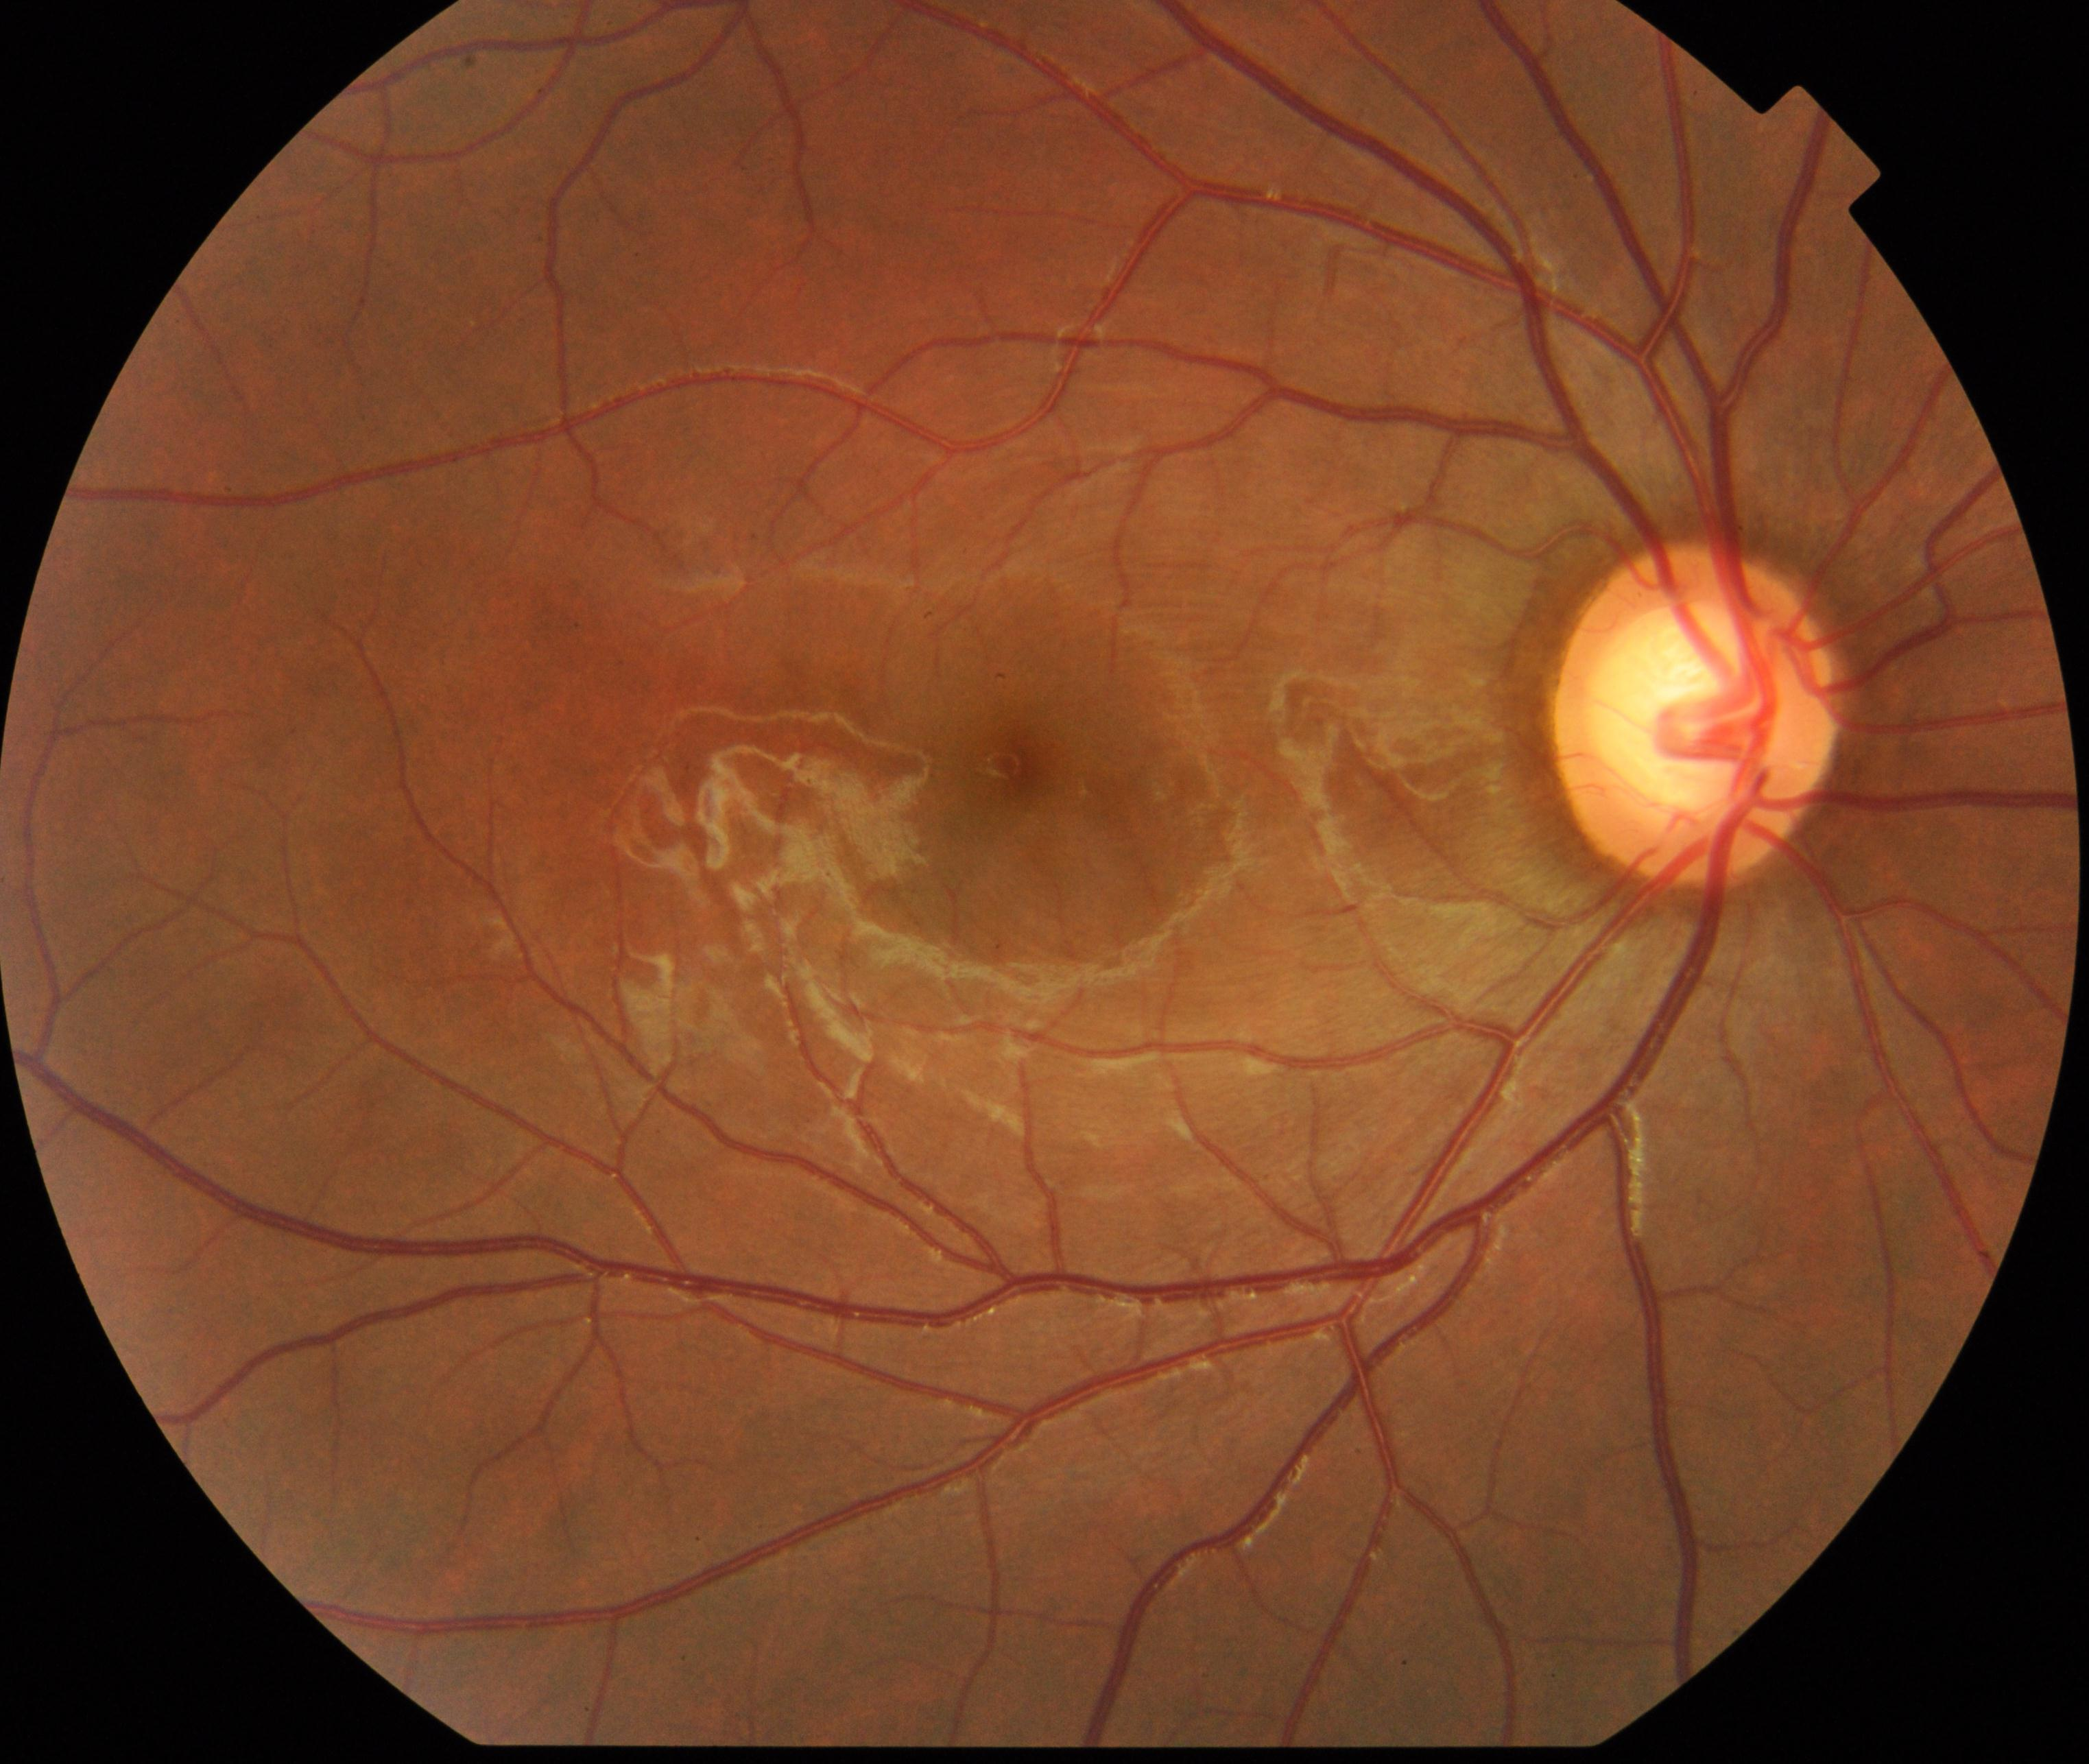Glaucoma section-1: (1620, 623, 1762, 798)
Glaucoma section-2: (1543, 544, 1851, 885)
